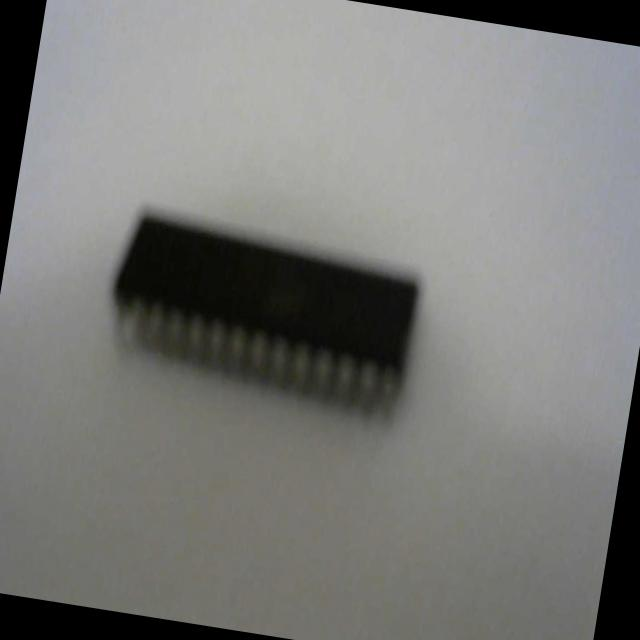atmega: (96, 198, 430, 432)
